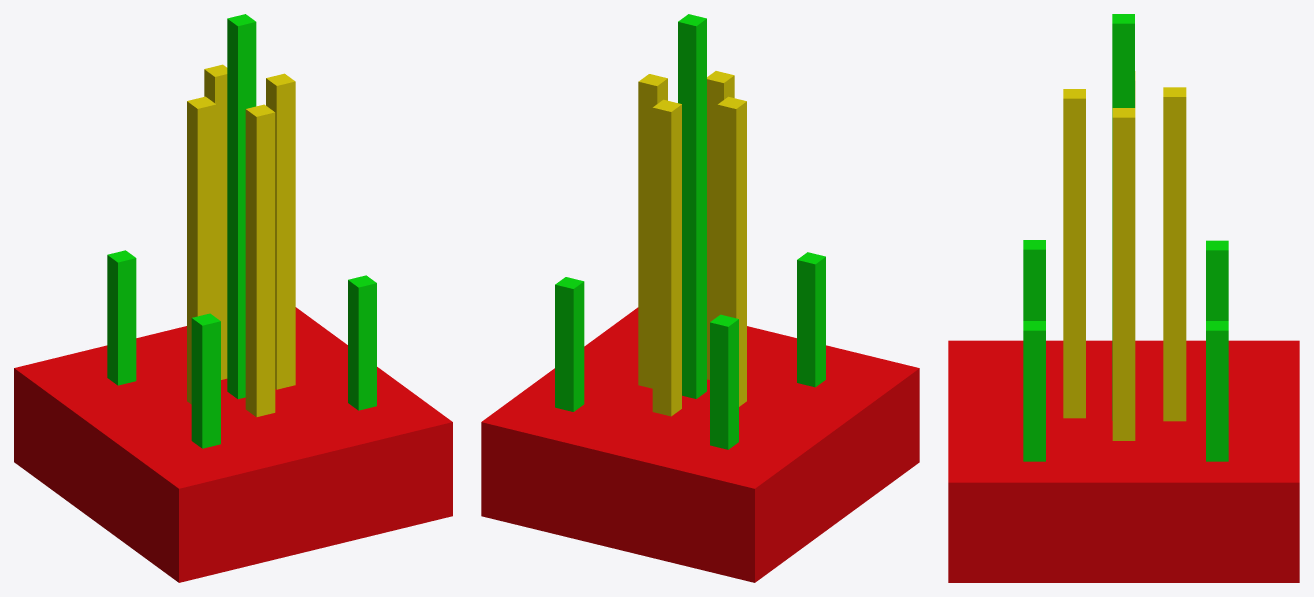
The model's file is redrecourcebuilding.glb.
3 views of the same model, side by side, from view 1: azimuth 30°, elevation 25°; view 2: azimuth 150°, elevation 25°; view 3: azimuth 270°, elevation 25° (orthographic). The views are drawn at different scales.
Parts seen in each view (by area): view 1: Cube.009, Cube.005, Cube.008, Cube.007, Cube.004, Cube, Cube.003, Cube.006, Cube.001; view 2: Cube.009, Cube.008, Cube.006, Cube.007, Cube.004, Cube.002, Cube, Cube.003, Cube.005; view 3: Cube.009, Cube.006, Cube.004, Cube.005, Cube.001, Cube.002, Cube.008, Cube, Cube.003.
Boxes of the visible parts, x1,y1,x2,y2 form: Cube.009: [14, 307, 452, 582]; Cube.005: [245, 104, 275, 417]; Cube.008: [227, 14, 256, 399]; Cube.007: [187, 96, 216, 404]; Cube.004: [266, 73, 295, 389]; Cube: [191, 313, 220, 448]; Cube.003: [107, 250, 136, 385]; Cube.006: [204, 64, 227, 379]; Cube.001: [348, 275, 376, 410]; Cube.009: [481, 307, 919, 582]; Cube.008: [678, 14, 706, 398]; Cube.006: [652, 99, 681, 416]; Cube.007: [717, 96, 746, 406]; Cube.004: [638, 74, 667, 388]; Cube.002: [555, 277, 584, 411]; Cube: [797, 252, 825, 387]; Cube.003: [710, 314, 738, 449]; Cube.005: [707, 71, 734, 379]; Cube.009: [948, 340, 1299, 582]; Cube.006: [1163, 87, 1186, 421]; Cube.004: [1112, 108, 1135, 440]; Cube.005: [1063, 89, 1085, 418]; Cube.001: [1023, 321, 1045, 461]; Cube.002: [1206, 321, 1228, 461]; Cube.008: [1112, 14, 1134, 420]; Cube: [1023, 240, 1045, 320]; Cube.003: [1206, 240, 1228, 320].
Size of the model in its own units: 15.01 by 24.48 by 15.67.
